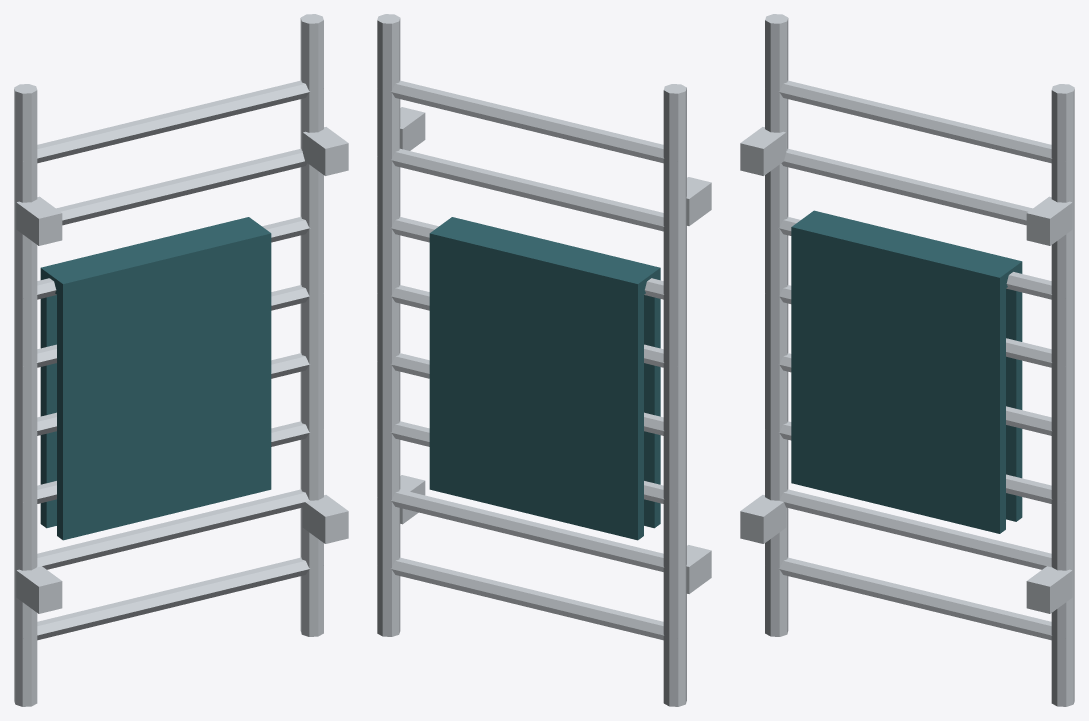
The model's file is FN_Rail_Towel.obj.
The picture shows the model from 3 angles, left to right: view 1: azimuth 30°, elevation 25°; view 2: azimuth 150°, elevation 25°; view 3: azimuth 330°, elevation 25°; orthographic projection.
Parts seen in each view (by area): view 1: FN_Rail_Towel; view 2: FN_Rail_Towel; view 3: FN_Rail_Towel.
Part boxes in pixels (box(x1,y1,x2,y2)): FN_Rail_Towel: box(14, 14, 348, 706); FN_Rail_Towel: box(377, 14, 711, 706); FN_Rail_Towel: box(740, 14, 1074, 706).
Bounding box in the file's own units: 0.476 × 0.9 × 0.096.
1 material, 1 textured.
